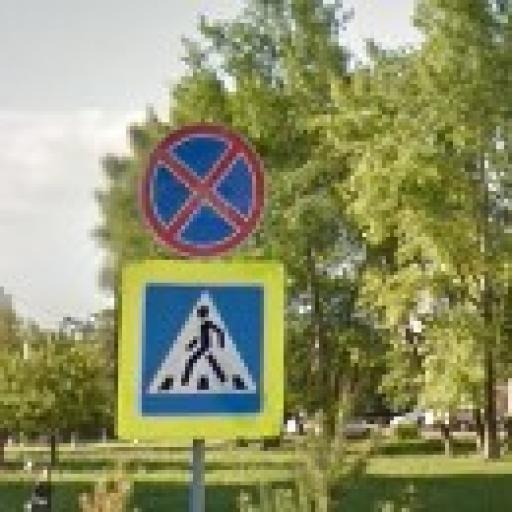traffic_sign: (115, 257, 289, 444), (139, 123, 269, 257)
